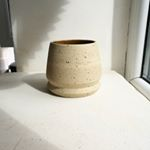cups: (44, 37, 103, 100)
